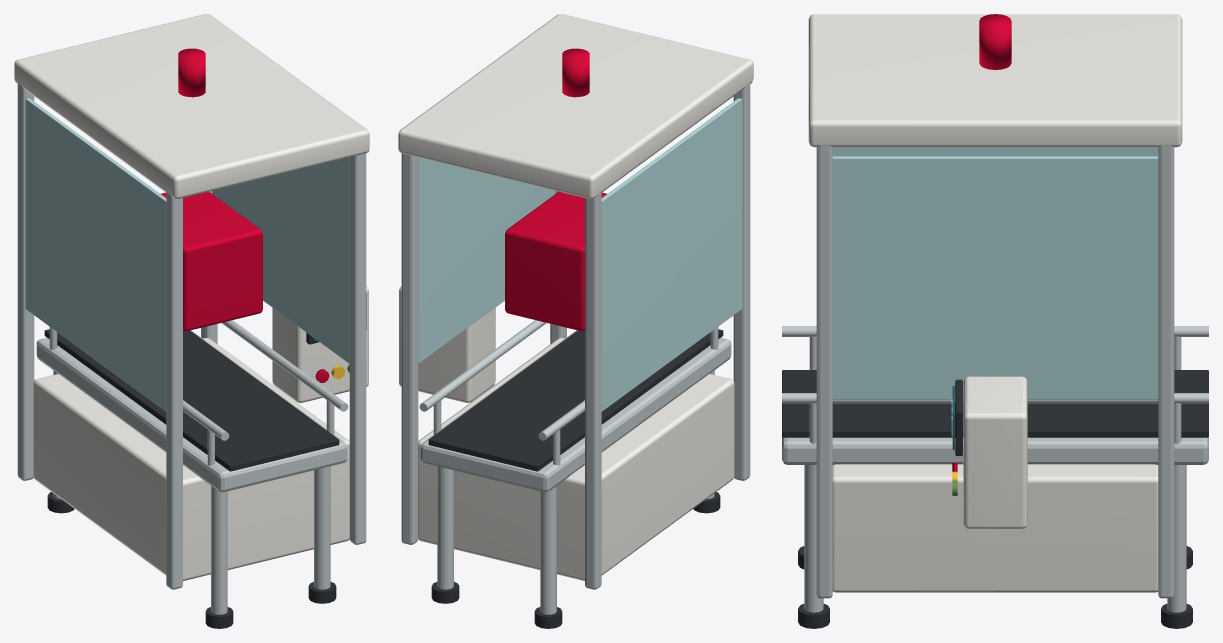
The model's file is Packing_Machine.fbx.
3 renders of one model, left to right at view 1: azimuth 30°, elevation 25°; view 2: azimuth 150°, elevation 25°; view 3: azimuth 270°, elevation 25°, orthographic. The views are drawn at different scales.
Parts seen in each view (by area): view 1: Packing_Machine_White, Packing_Machine_Glass, Packing_Machine_Steel, Packing_Machine_Rubber, Packing_Machine_Red; view 2: Packing_Machine_White, Packing_Machine_Glass, Packing_Machine_Steel, Packing_Machine_Rubber, Packing_Machine_Red; view 3: Packing_Machine_White, Packing_Machine_Glass, Packing_Machine_Steel, Packing_Machine_Rubber, Packing_Machine_Red.
Part boxes in pixels (x1,y1,x2,y2): Packing_Machine_White: (14, 14, 369, 580); Packing_Machine_Glass: (25, 98, 349, 411); Packing_Machine_Steel: (17, 83, 366, 614); Packing_Machine_Rubber: (44, 293, 366, 628); Packing_Machine_Red: (161, 48, 329, 382); Packing_Machine_White: (398, 14, 753, 580); Packing_Machine_Glass: (418, 98, 742, 411); Packing_Machine_Steel: (401, 83, 750, 614); Packing_Machine_Rubber: (428, 329, 723, 628); Packing_Machine_Red: (505, 48, 606, 330); Packing_Machine_White: (808, 14, 1182, 592); Packing_Machine_Glass: (832, 147, 1158, 399); Packing_Machine_Steel: (782, 145, 1208, 612); Packing_Machine_Rubber: (782, 370, 1208, 628); Packing_Machine_Red: (952, 14, 1011, 471).
Size of the model in its own units: 163 by 296 by 200.
